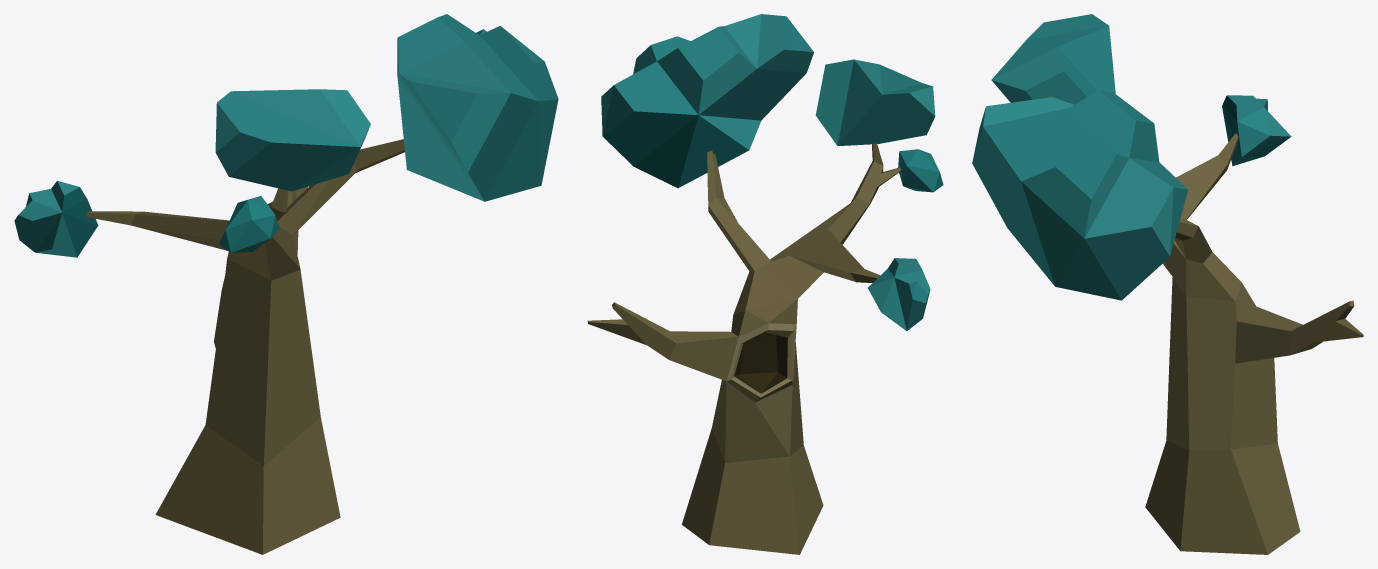
Rendered from TreeAutumn1_Alt1.fbx.
3 renders of one model, left to right at view 1: azimuth 30°, elevation 25°; view 2: azimuth 150°, elevation 25°; view 3: azimuth 270°, elevation 25°, orthographic. The views are drawn at different scales.
Parts seen in each view (by area): view 1: TreeAutumn1_Alt1; view 2: TreeAutumn1_Alt1; view 3: TreeAutumn1_Alt1.
Boxes of the visible parts, x1,y1,x2,y2 form: TreeAutumn1_Alt1: (14, 14, 558, 554); TreeAutumn1_Alt1: (587, 14, 943, 554); TreeAutumn1_Alt1: (972, 14, 1363, 554).
Size of the model in its own units: 1.78 by 1.96 by 1.44.
